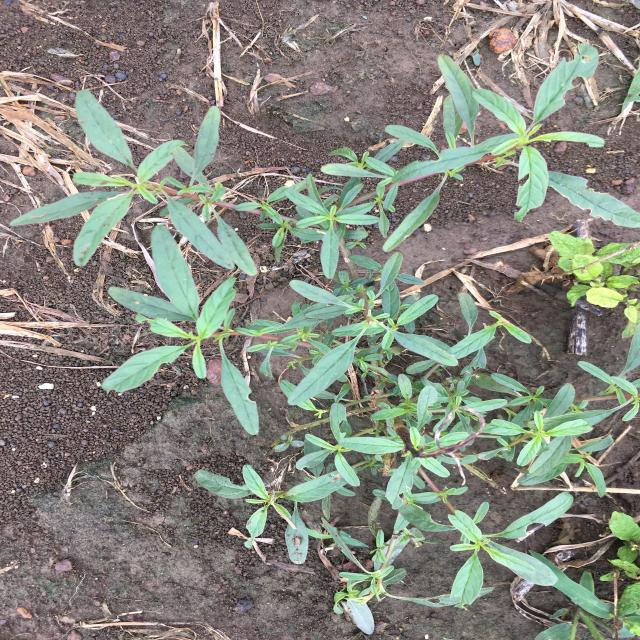Waterhemp: (9, 42, 640, 614)
